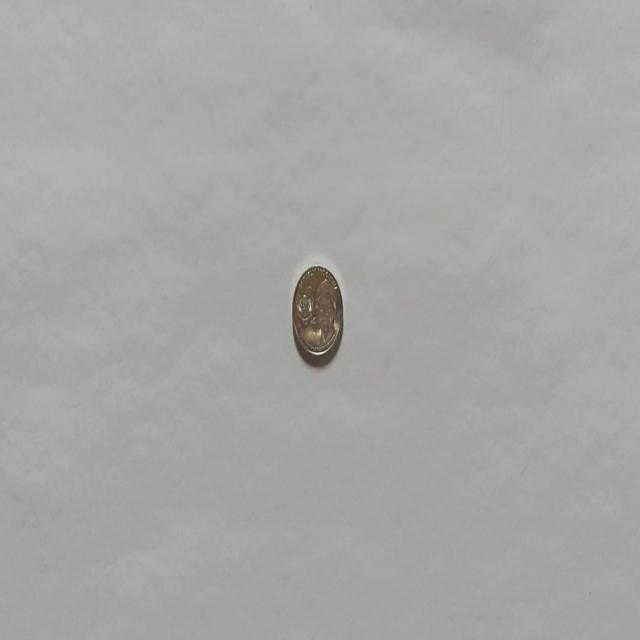dua ratus rupiah: (290, 263, 344, 359)
